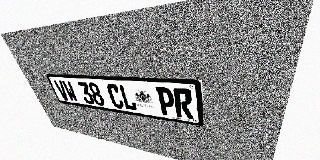3: (77, 82, 95, 105)
8: (87, 82, 106, 106)
C: (106, 83, 125, 109)
L: (118, 84, 138, 111)
P: (156, 87, 176, 117)
R: (173, 88, 194, 119)
V: (53, 80, 71, 101)
W: (61, 81, 79, 102)
